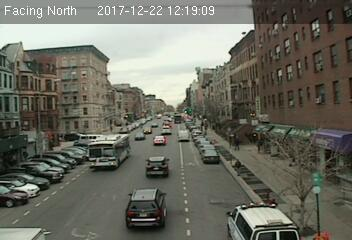bus: (85, 132, 133, 169)
car: (125, 188, 170, 230), (142, 157, 170, 178), (202, 149, 221, 163), (177, 129, 191, 141), (152, 135, 166, 145)
pedestrian: (233, 158, 244, 178)
police: (227, 197, 300, 240)
